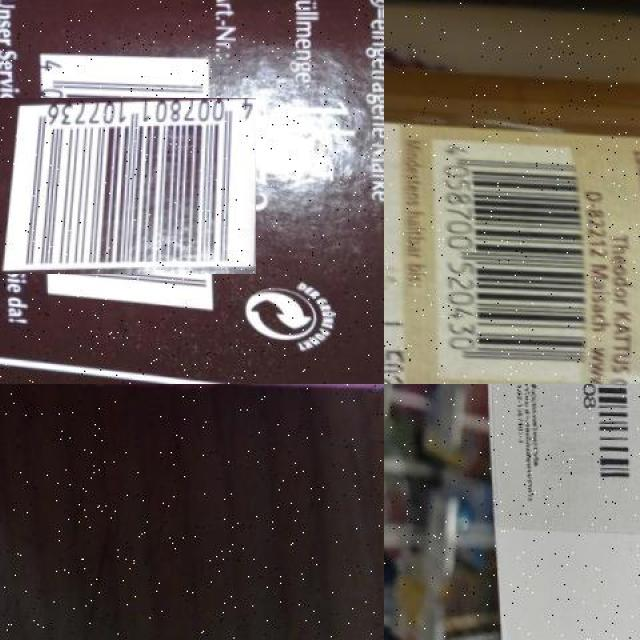Barcode: (20, 77, 237, 294), (435, 147, 593, 384), (581, 384, 639, 496)
